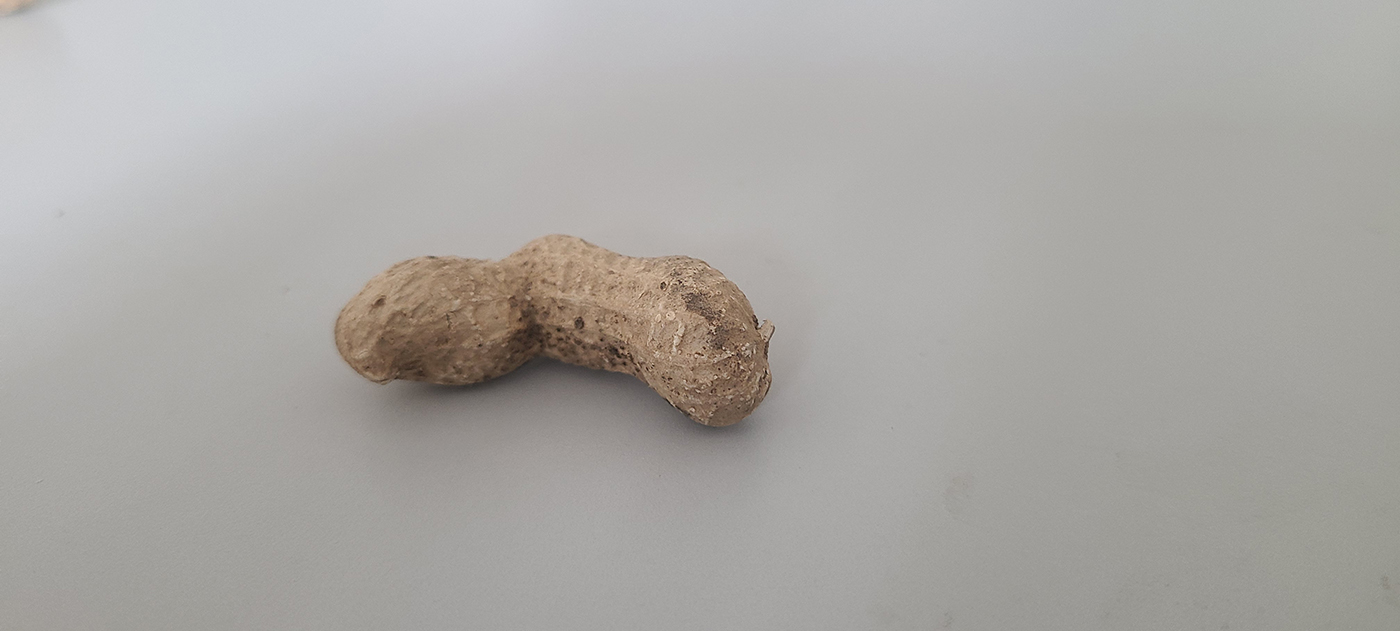h: (331, 231, 775, 434)
